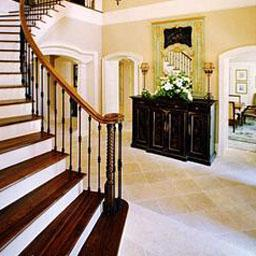Escaleras: (0, 6, 117, 254)
